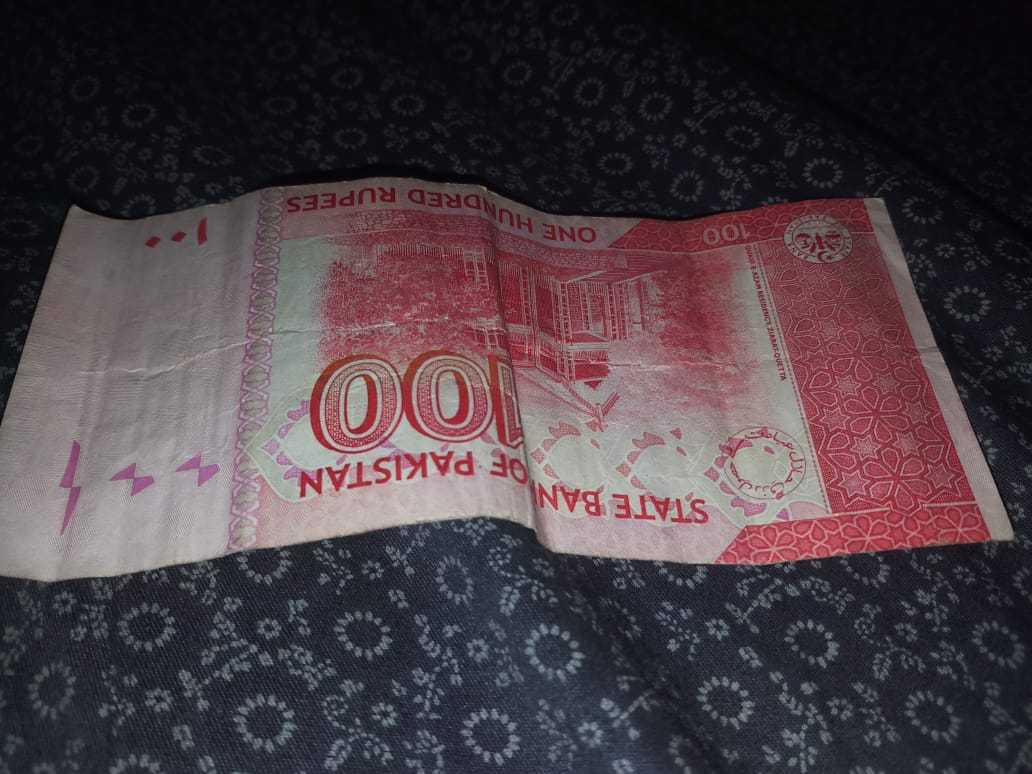100 rupee: (10, 166, 1007, 634)
